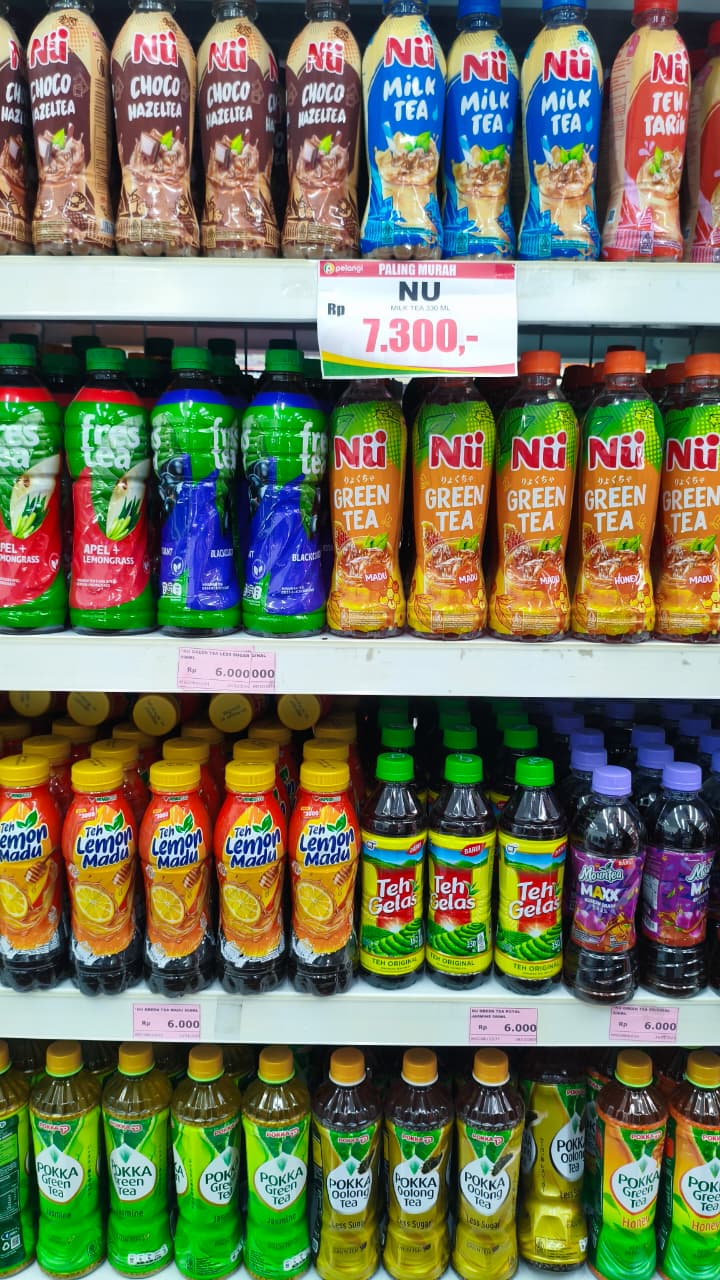Lemon Madu: (63, 773, 138, 919), (141, 774, 216, 920), (139, 772, 214, 918), (296, 779, 371, 925)
Nii Green Tea: (410, 381, 497, 599), (578, 380, 665, 598), (498, 375, 585, 593), (310, 394, 397, 612), (659, 390, 720, 585)
Nii Milk Tea: (374, 17, 444, 163), (531, 31, 601, 177), (455, 20, 525, 166)
Teh Gelas: (505, 785, 564, 984)
